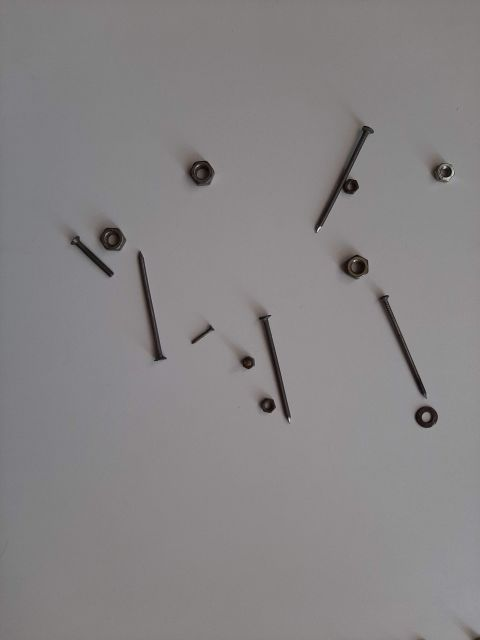gwozdz: (305, 105, 385, 245), (355, 275, 445, 395), (95, 245, 185, 365), (245, 295, 305, 415)
nakretka: (415, 135, 475, 205), (155, 135, 235, 185), (325, 245, 385, 275), (95, 205, 125, 245)
podkladka: (385, 385, 445, 445)
